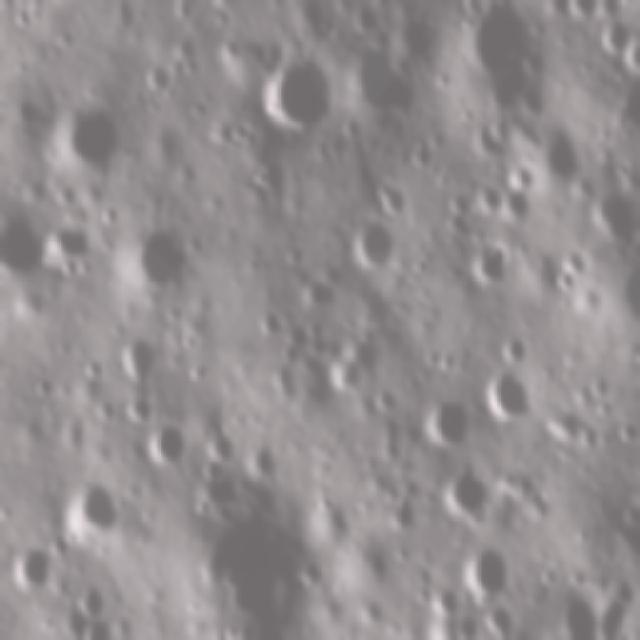crater: (453, 2, 544, 112), (255, 45, 338, 141), (51, 95, 129, 180), (342, 45, 422, 127), (122, 217, 198, 303), (54, 474, 121, 548), (0, 206, 55, 291), (529, 124, 593, 193), (342, 216, 404, 276), (38, 216, 97, 276), (454, 544, 515, 601), (463, 232, 515, 297), (437, 462, 494, 520), (418, 397, 472, 454), (5, 542, 56, 601), (112, 331, 163, 389), (480, 367, 531, 422), (141, 421, 190, 474), (544, 397, 591, 451), (197, 431, 243, 477), (245, 441, 287, 490), (66, 582, 111, 622), (595, 17, 636, 60), (139, 61, 178, 101), (500, 328, 538, 368), (122, 391, 156, 431), (488, 600, 521, 640), (561, 0, 607, 28), (78, 614, 122, 640), (253, 303, 282, 342), (224, 118, 256, 147), (448, 614, 479, 640), (392, 631, 456, 640)
